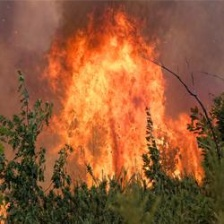fire: (48, 22, 203, 190)
